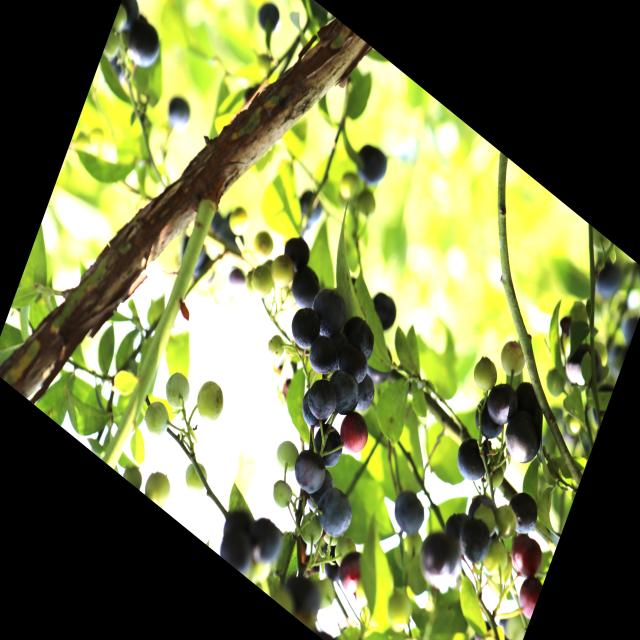blueberry: (414, 522, 466, 597), (312, 478, 358, 548), (500, 406, 547, 474), (560, 334, 606, 400), (308, 282, 352, 350), (121, 12, 167, 77), (348, 132, 393, 196), (451, 509, 496, 572), (286, 441, 331, 503), (389, 482, 432, 544), (451, 431, 493, 493), (503, 483, 544, 544), (481, 373, 522, 432), (339, 308, 380, 366), (303, 373, 343, 431), (324, 366, 364, 424), (310, 419, 348, 476), (304, 329, 342, 384), (287, 302, 324, 358), (288, 260, 324, 316), (334, 336, 372, 389), (469, 400, 507, 448), (511, 374, 545, 423), (367, 288, 400, 338), (250, 0, 286, 45), (280, 230, 312, 277), (163, 87, 193, 133), (352, 371, 379, 419)
blueberry-halfripe: (504, 524, 546, 586), (335, 408, 372, 460), (334, 546, 370, 598), (514, 569, 544, 619)
blueberry-unripe: (191, 374, 228, 429), (138, 393, 174, 445), (161, 365, 195, 416), (496, 333, 530, 384), (142, 464, 176, 511), (295, 507, 327, 552), (181, 455, 211, 501), (266, 247, 296, 293), (272, 434, 302, 479), (268, 472, 298, 516), (470, 353, 500, 396), (490, 500, 520, 542), (248, 261, 276, 302), (331, 532, 355, 570), (266, 330, 288, 364)
